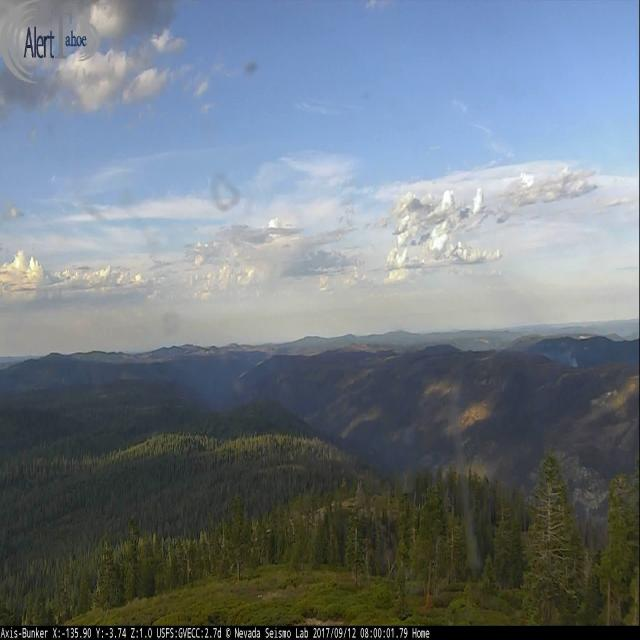smoke: (543, 341, 577, 370)
